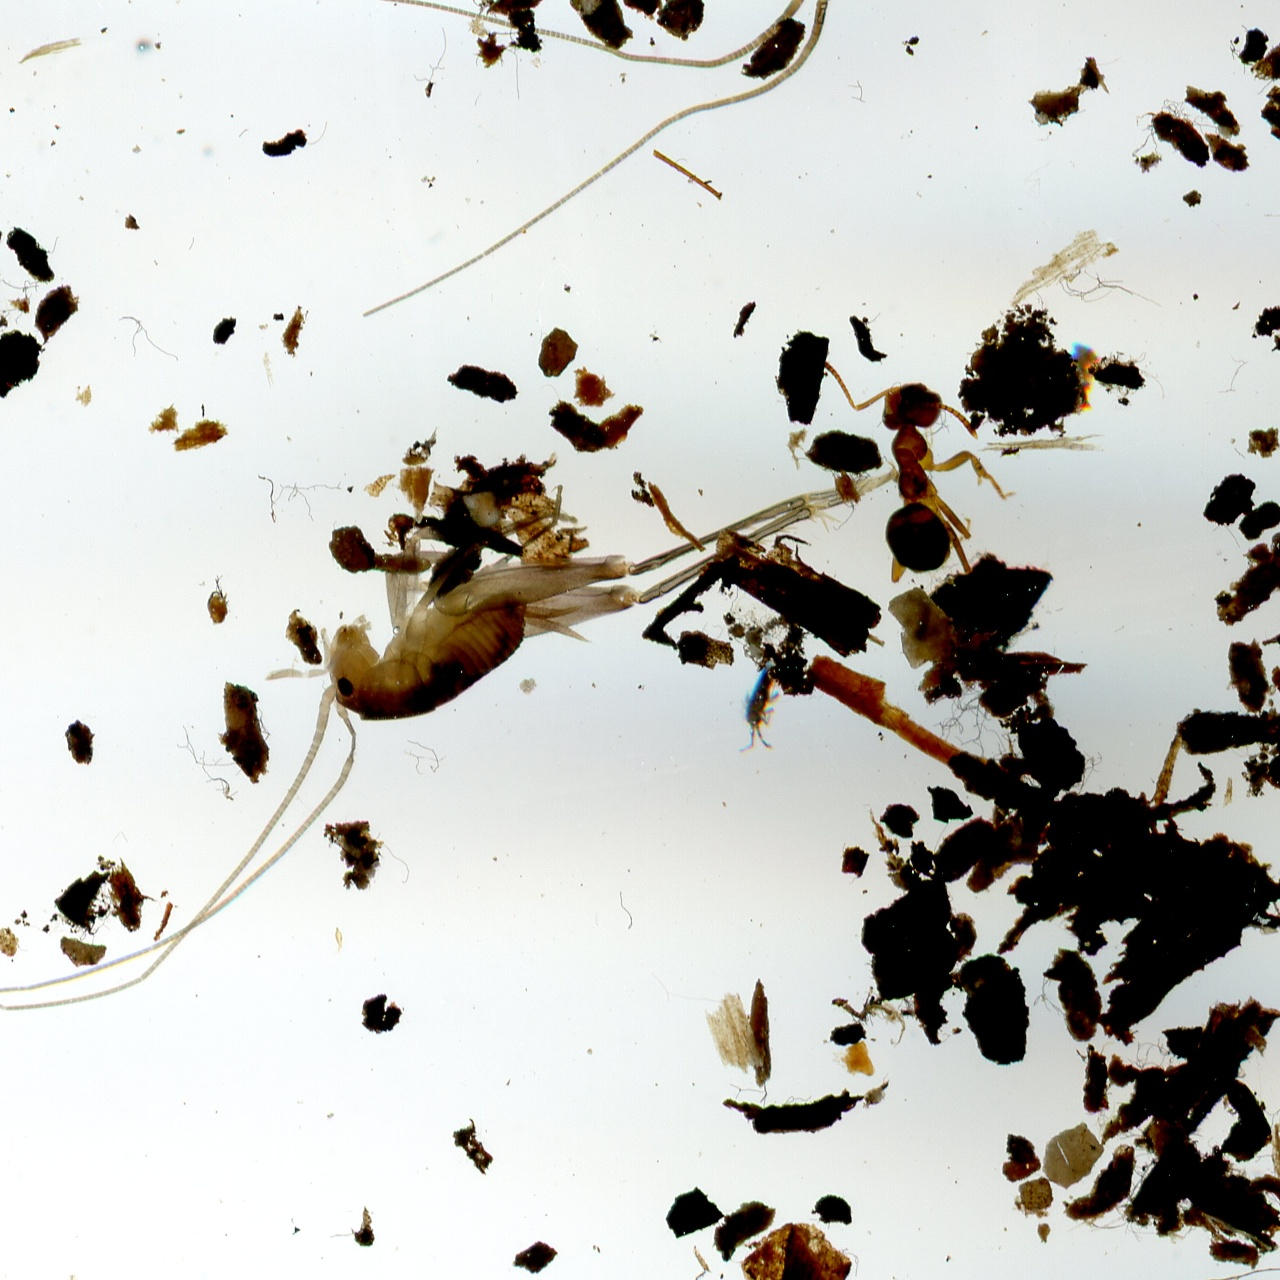arthropod: (0, 179, 1143, 1142), (176, 0, 1136, 342), (822, 358, 1020, 588), (731, 660, 787, 758)
